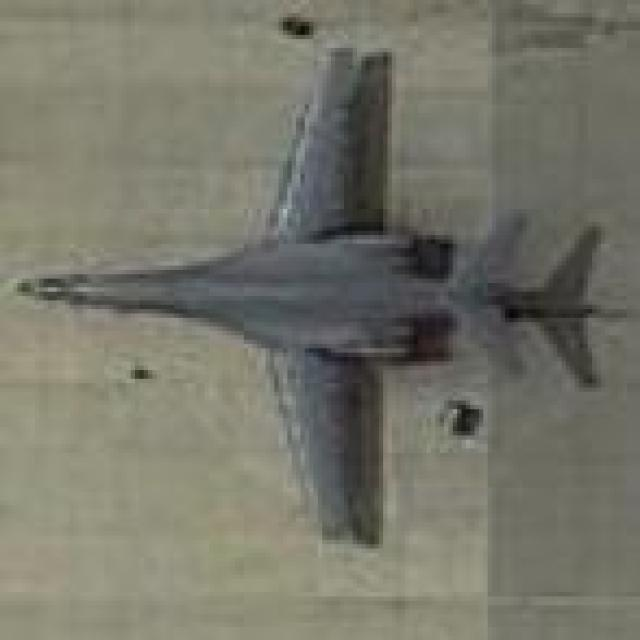B-1_TopDown: (13, 39, 627, 549)
